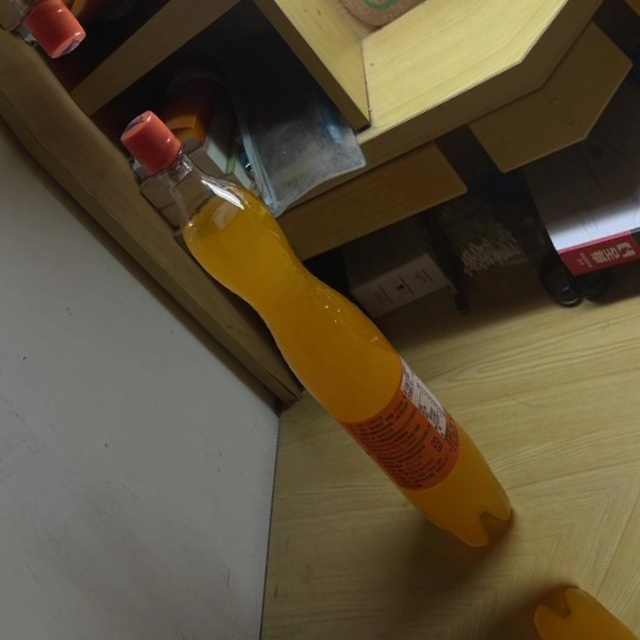Fanta: (97, 79, 532, 571)
